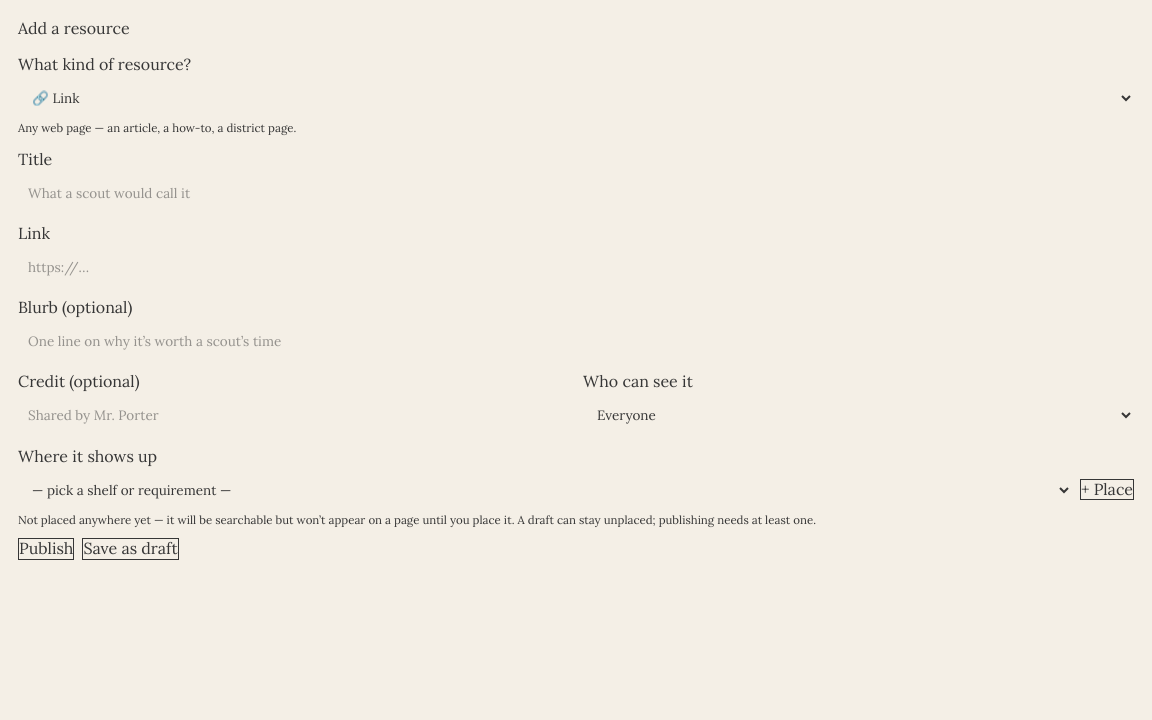
Test case: Add a resource — publishing needs a placement › clears the warning once the shelf is actually placed
The width and height of the screenshot is (1152, 720).
Click the button "Publish".
click(46, 549)  # box [18, 538, 74, 560]
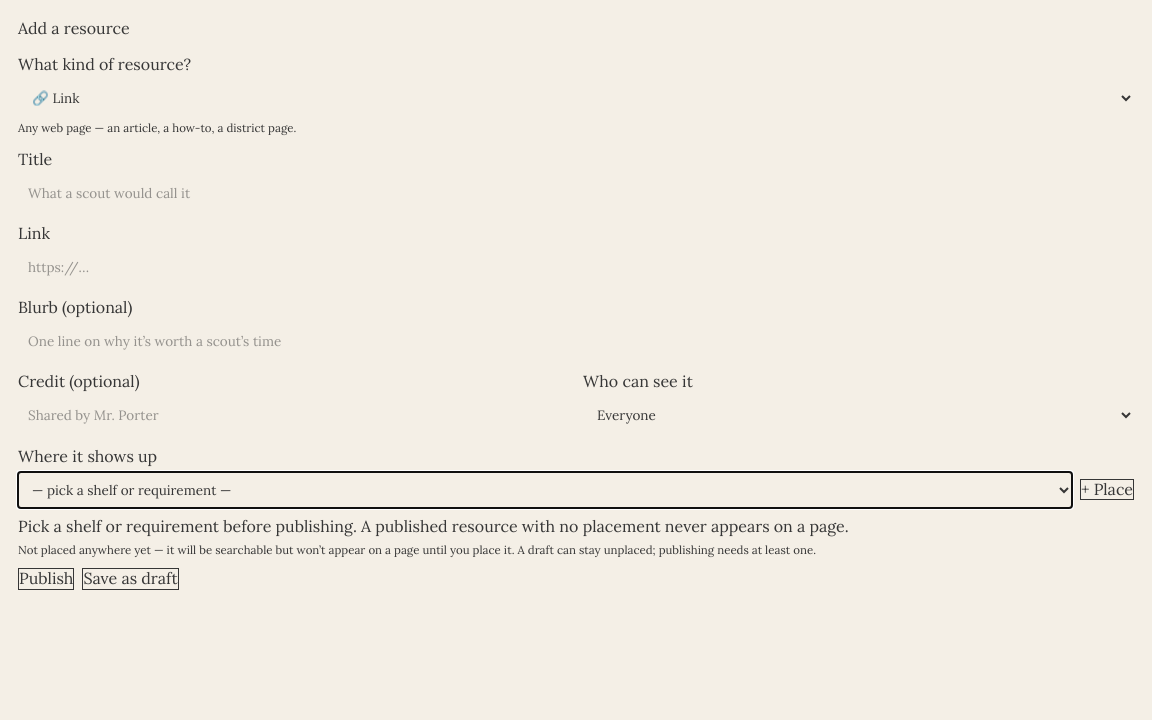
Result: the message is shown at [18, 516, 849, 536]
Select "Camping" in the dropdown named "where it shows up" at (545, 490), box [18, 472, 1072, 508]
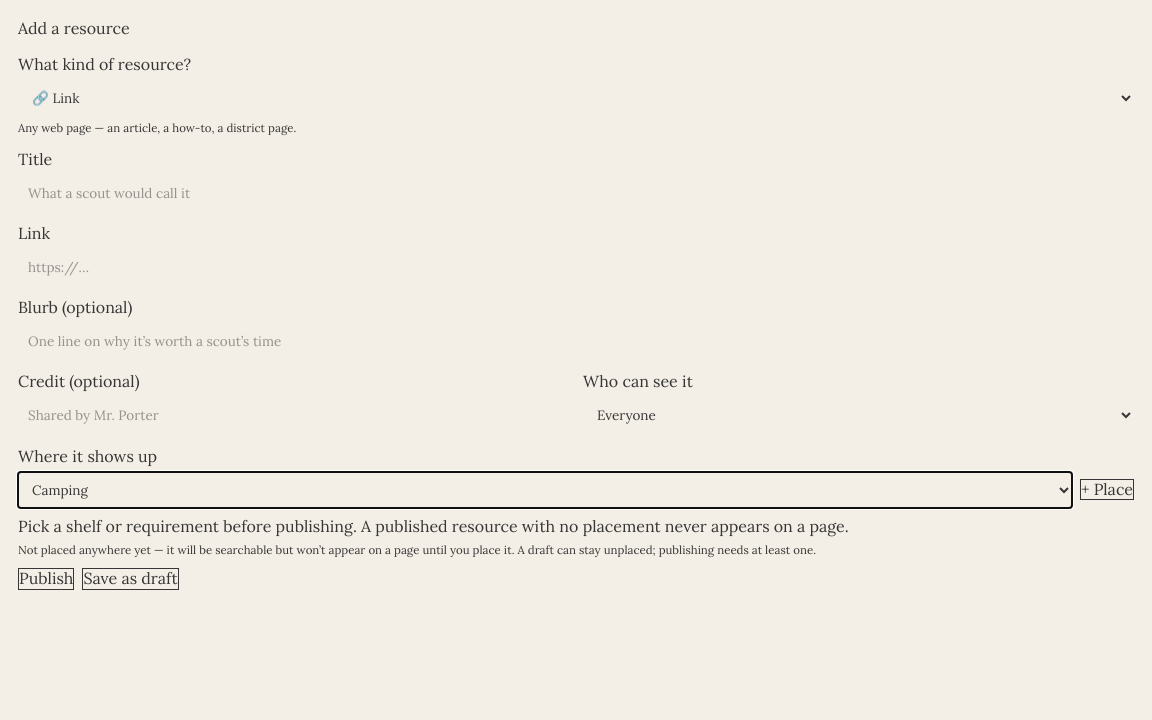
Click the button "+ Place".
click(1107, 490)  # box [1080, 479, 1134, 500]
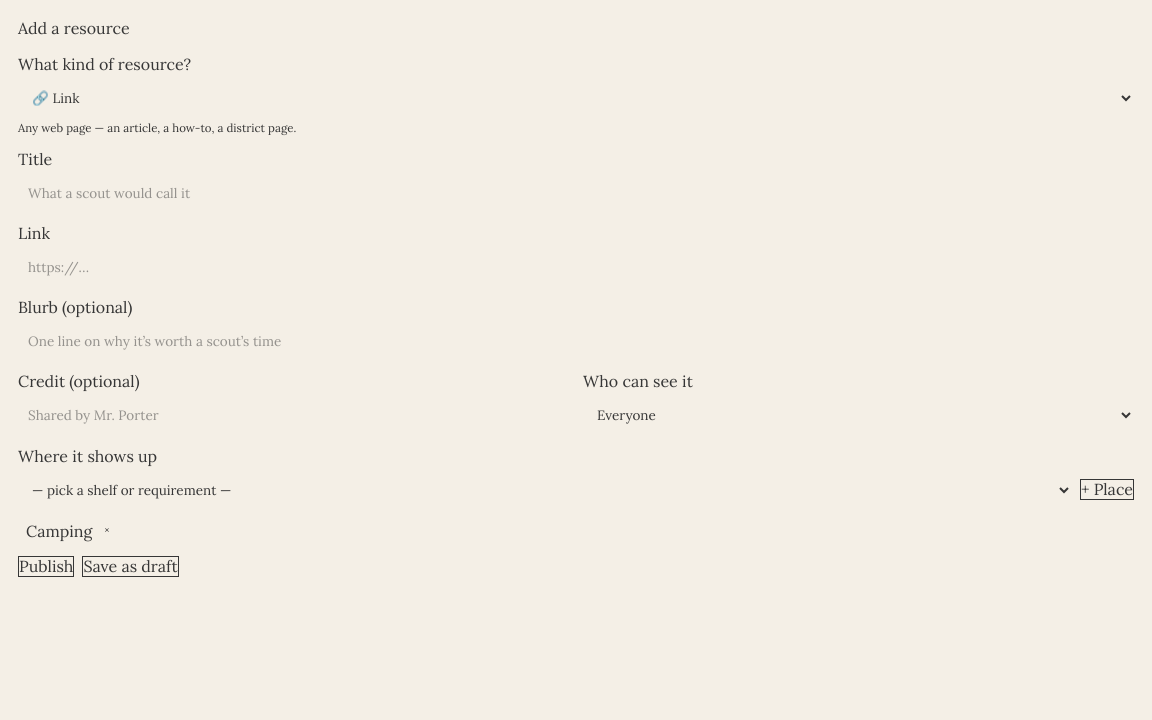
Result: the message is gone
